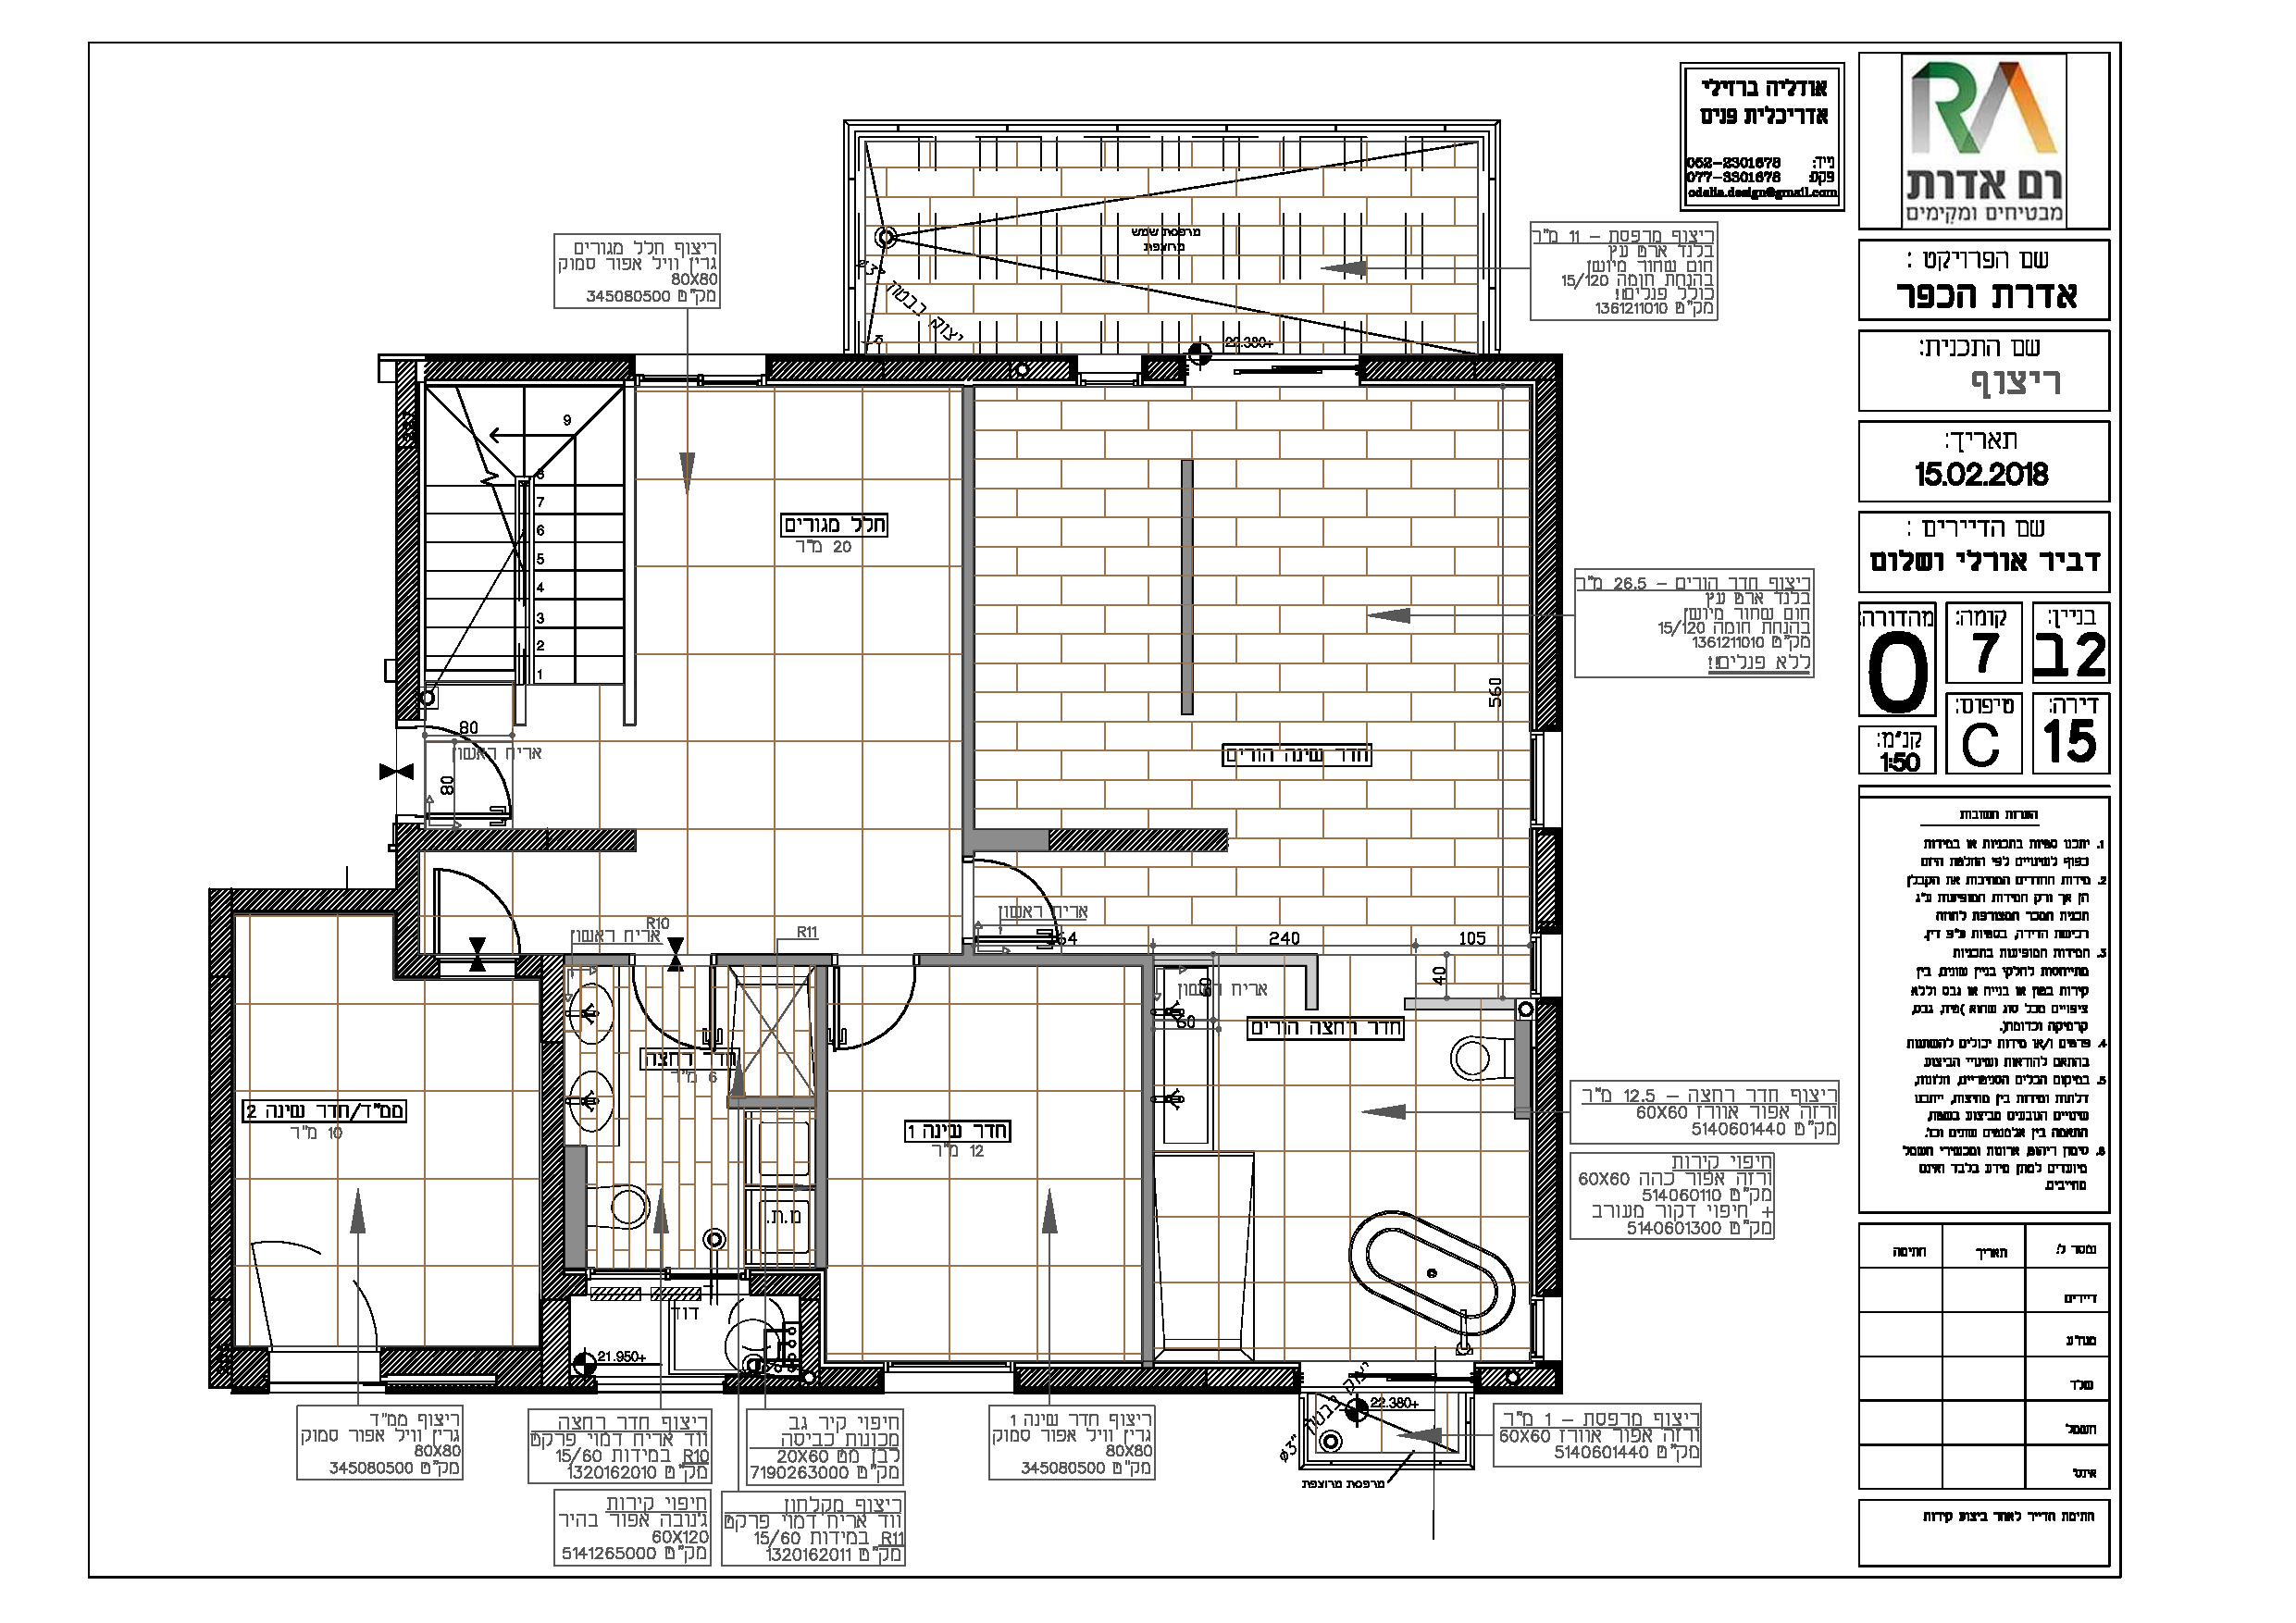door: (430, 720, 513, 822), (980, 854, 1066, 943), (831, 975, 919, 1057), (430, 866, 523, 934)
wall: (209, 975, 232, 1296), (1537, 367, 1560, 604), (1539, 1006, 1558, 1286), (541, 1043, 560, 1289), (397, 448, 418, 664), (430, 360, 629, 383), (427, 831, 631, 850), (395, 829, 420, 982), (964, 448, 973, 848), (385, 1351, 531, 1374), (1063, 827, 1216, 848), (234, 892, 416, 908), (771, 362, 884, 376)
window: (885, 1354, 1014, 1405), (632, 350, 766, 393), (1528, 732, 1574, 827), (1077, 351, 1144, 392)
